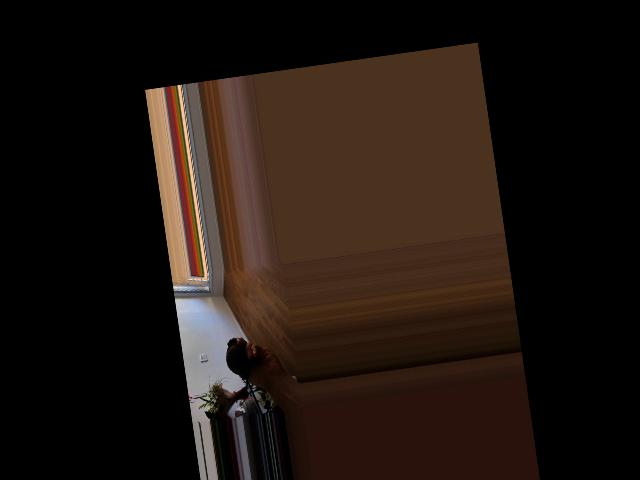beet: (223, 336, 256, 405)
